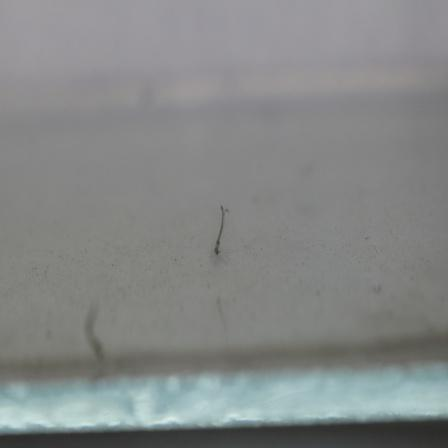Jentik-Nyamuk: (209, 199, 230, 260)
